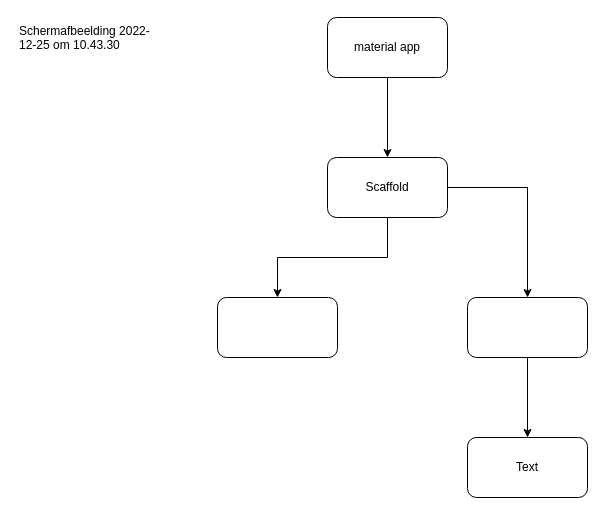
Image size: 605x515. Some labels were removed from this diagram. Here are the shapes that lost their labels. From the top down, the centre of each, then its label:
point 277,327: appbar
point 527,327: Center
